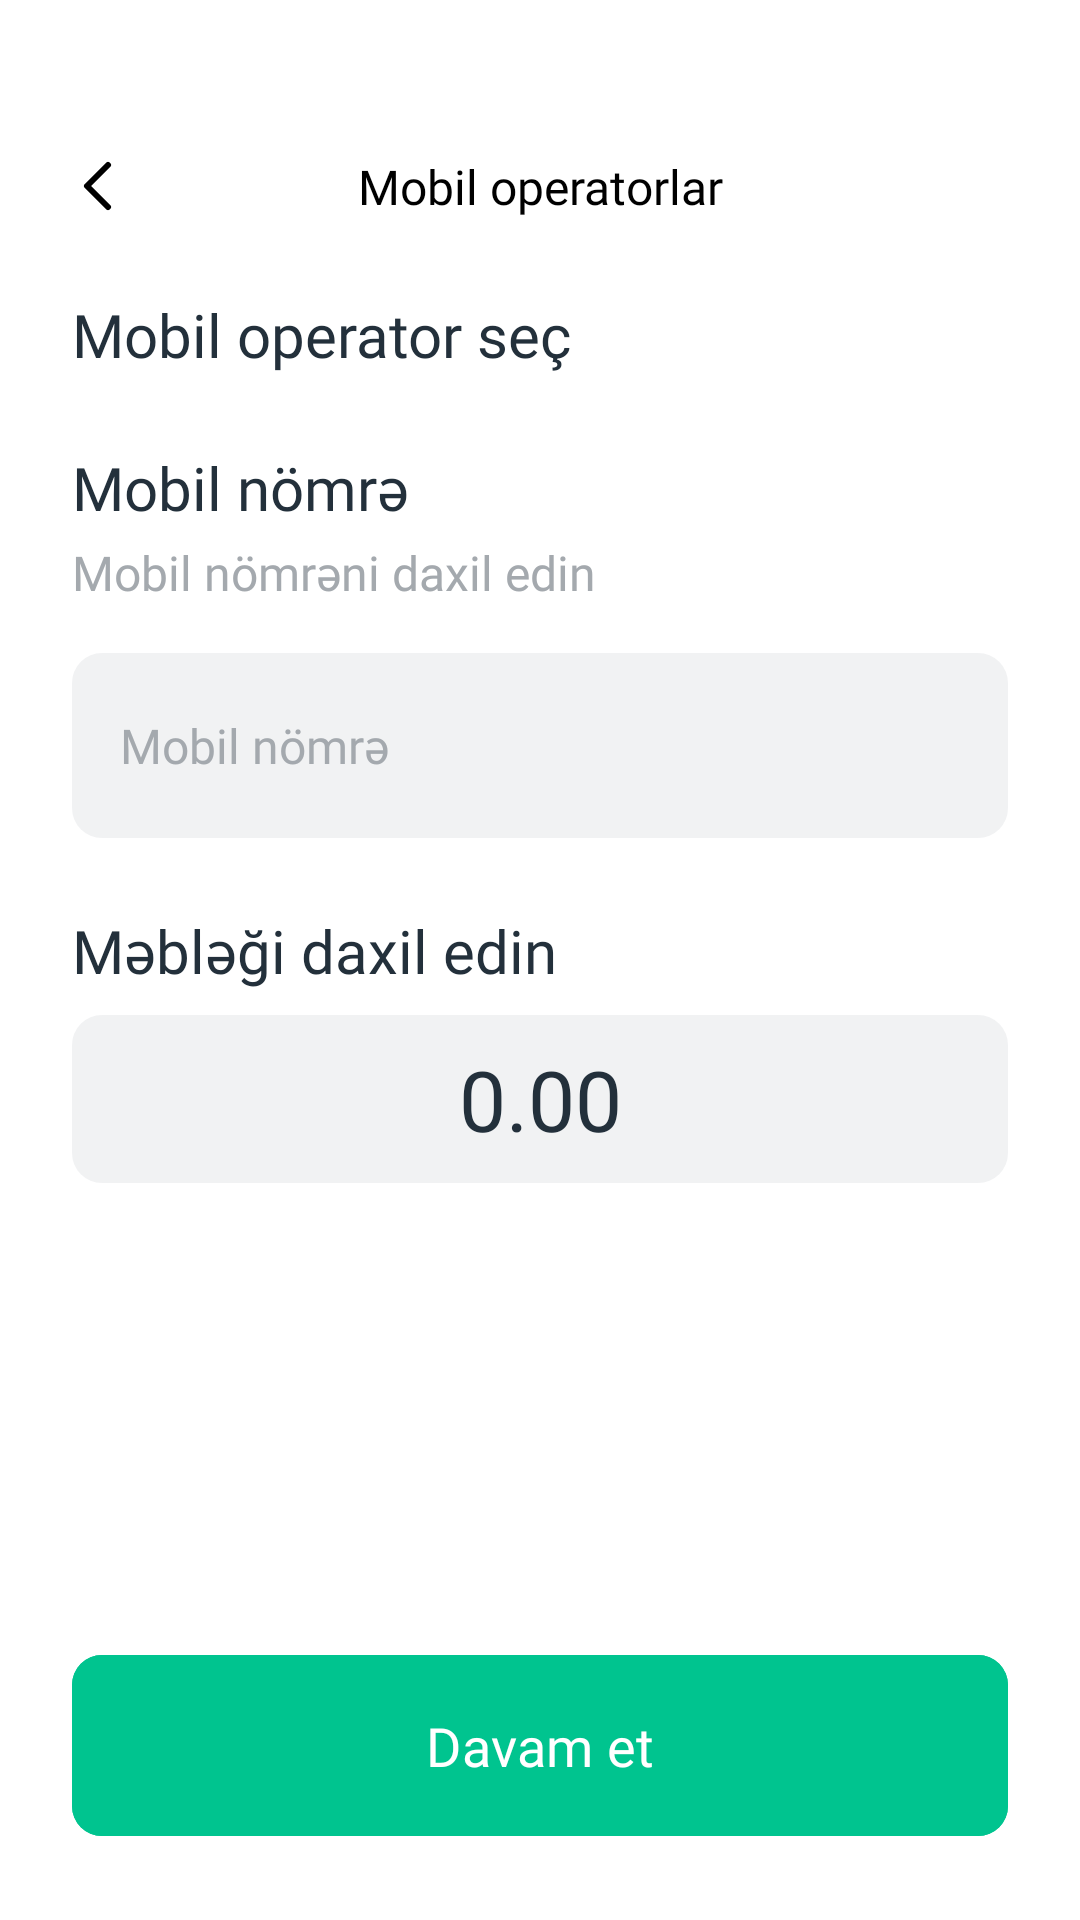

Where to tap for icons on this 1080px x 1920px app screen, as [x,y]:
back: [97,186]
